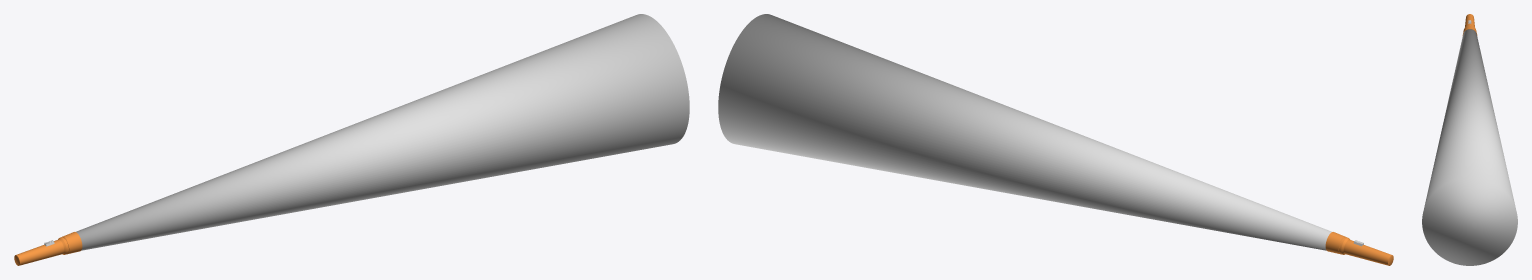
Rendered from flashlightWithLight.fbx.
3 views of the same model, side by side, from view 1: azimuth 30°, elevation 25°; view 2: azimuth 150°, elevation 25°; view 3: azimuth 270°, elevation 25° (orthographic). The views are drawn at different scales.
Parts seen in each view (by area): view 1: Cone, flashlightBody; view 2: Cone, flashlightBody; view 3: Cone, flashlightBody.
Boxes of the visible parts, box(x1,y1,x2,y2) form: Cone: box(76, 14, 689, 250); flashlightBody: box(14, 232, 82, 265); Cone: box(718, 14, 1331, 250); flashlightBody: box(1325, 232, 1393, 265); Cone: box(1422, 29, 1517, 265); flashlightBody: box(1462, 14, 1477, 35).
Bounding box in the file's own units: 220 × 39.98 × 40.
